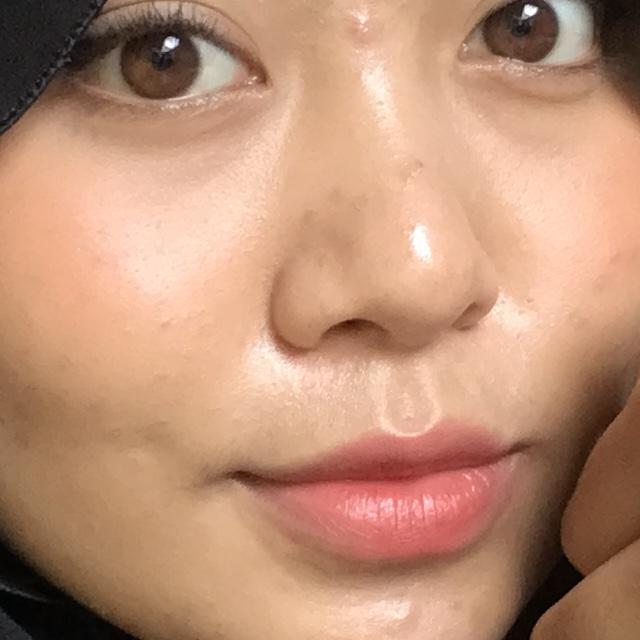telpon: (370, 0, 640, 640)
